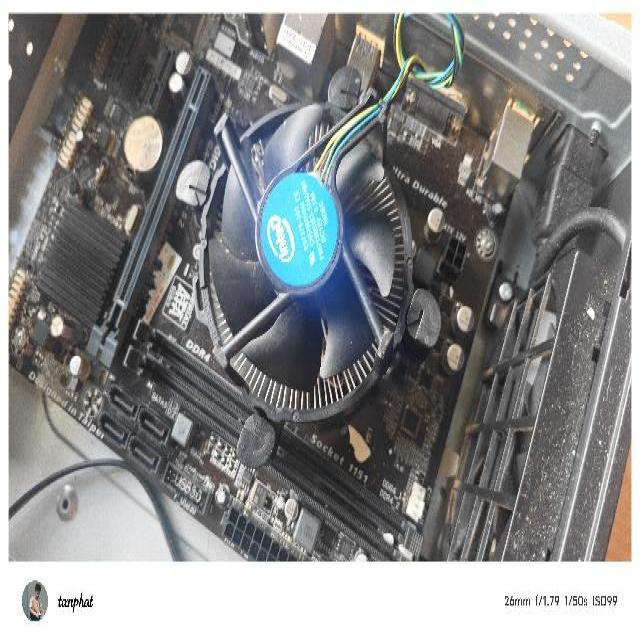CPU_Fan: (172, 64, 442, 472)
Mainboard: (9, 15, 476, 564)
